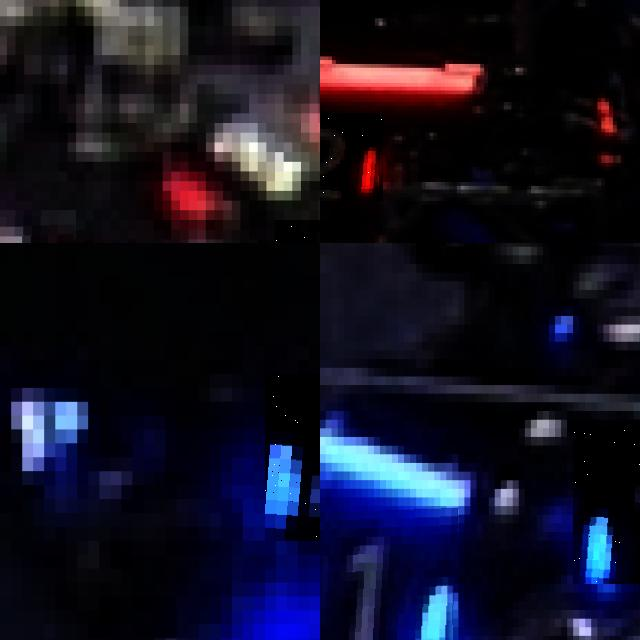B1: (320, 506, 458, 640), (573, 428, 640, 583)
B4: (264, 374, 320, 541)
R2: (320, 113, 382, 200)
